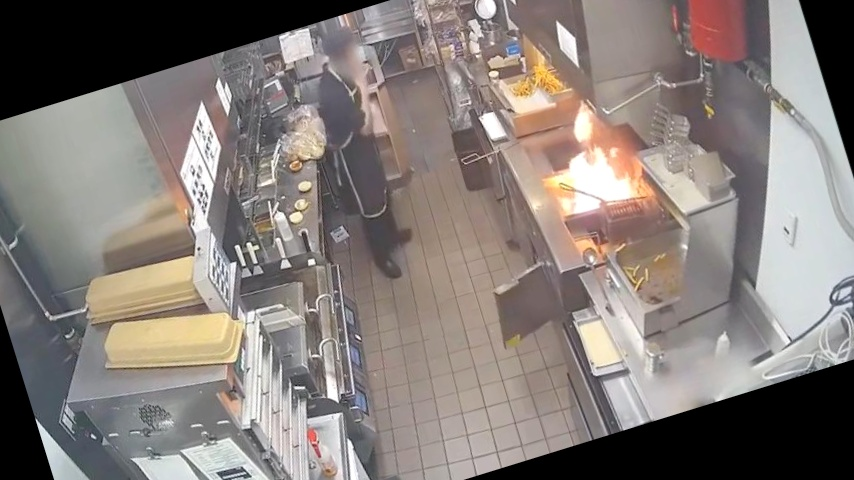fire: (512, 72, 673, 255)
